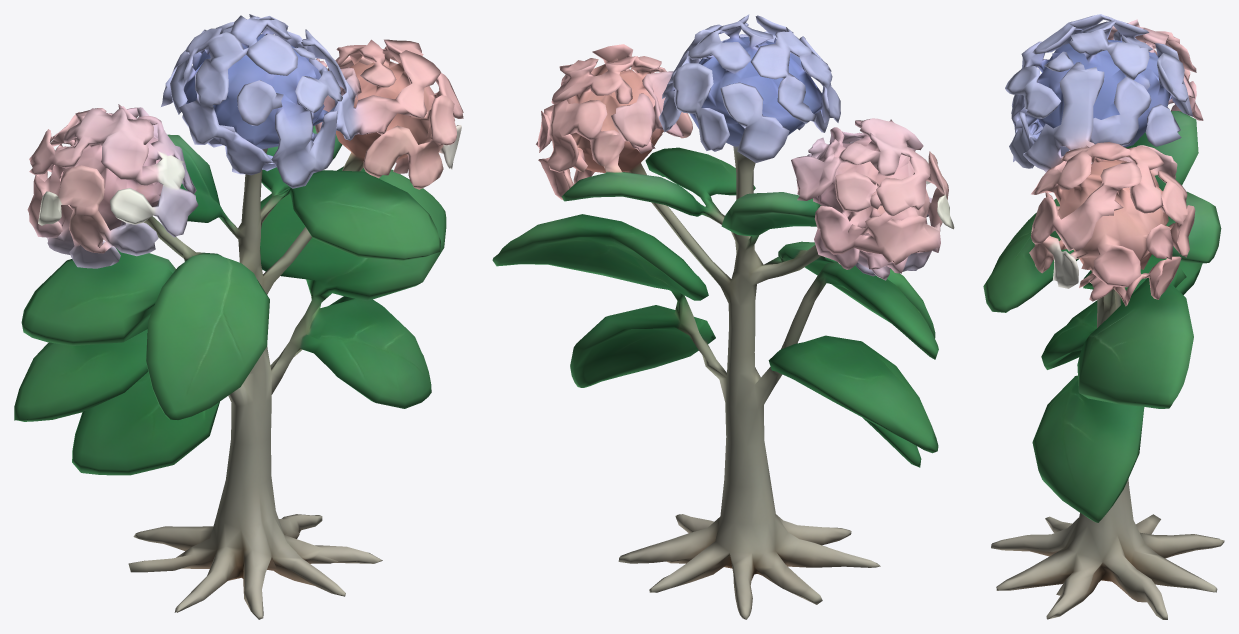
Rendered from hydrangea.glb.
3 renders of one model, left to right at view 1: azimuth 30°, elevation 25°; view 2: azimuth 150°, elevation 25°; view 3: azimuth 270°, elevation 25°, orthographic.
Parts seen in each view (by area): view 1: model; view 2: model; view 3: model.
Part boxes in pixels (box(x1,y1,x2,y2)): model: box(14, 14, 463, 619); model: box(492, 14, 954, 619); model: box(983, 14, 1224, 619).
Bounding box in the file's own units: 1.59 × 1.89 × 0.7516.
1 material, 1 textured.
